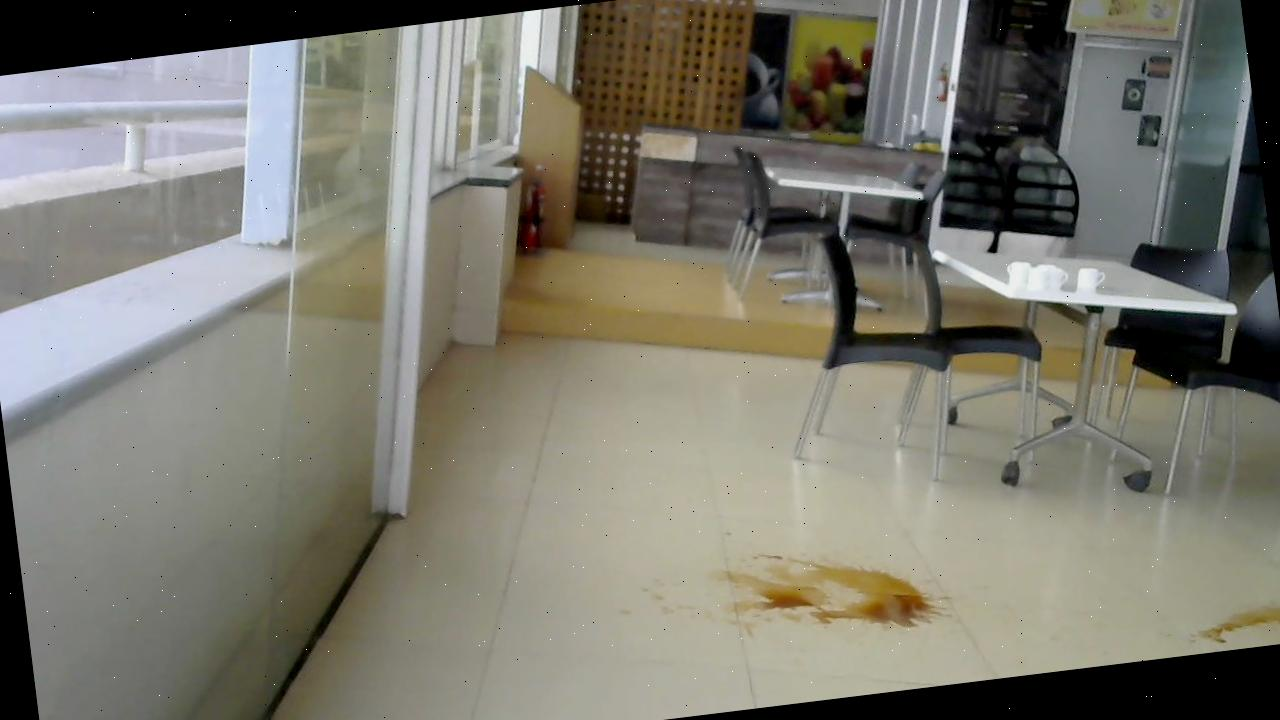dirty_floor: (701, 520, 963, 658), (1193, 596, 1280, 652)
